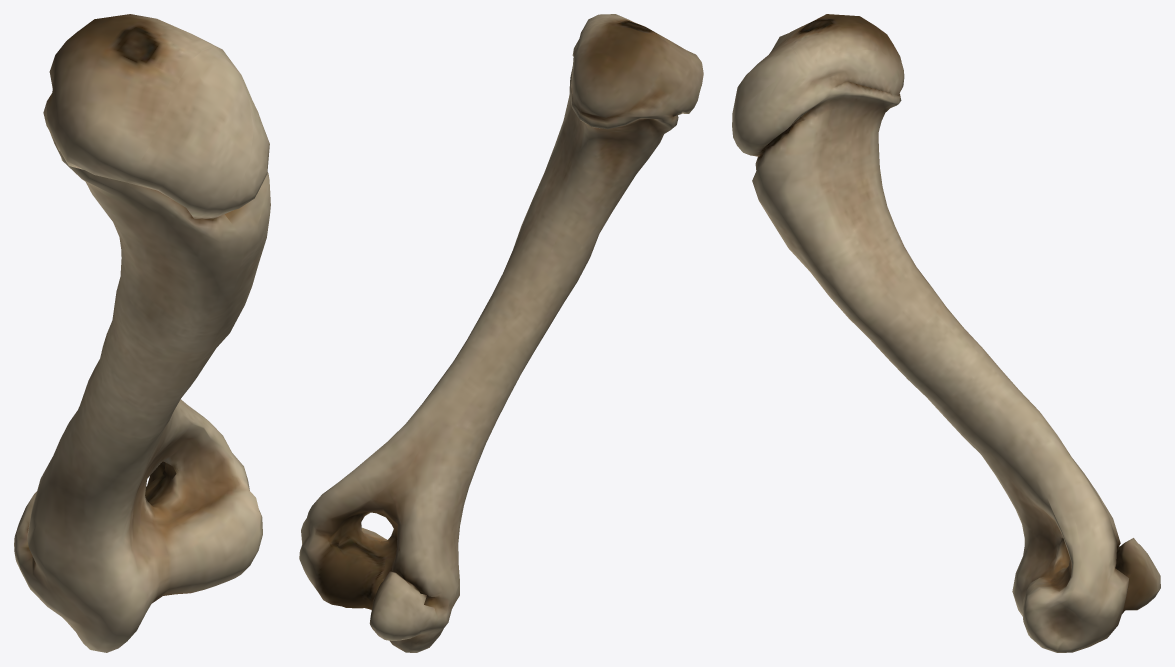
Rendered from Humerus.glb.
3 views of the same model, side by side, from view 1: azimuth 30°, elevation 25°; view 2: azimuth 150°, elevation 25°; view 3: azimuth 270°, elevation 25° (orthographic). The views are drawn at different scales.
Visible parts, largest first — view 1: Humerus_Right6:Humerus_Right4; view 2: Humerus_Right6:Humerus_Right4; view 3: Humerus_Right6:Humerus_Right4.
Boxes of the visible parts, left/top/right/bottom form: Humerus_Right6:Humerus_Right4: left=14, top=14, right=270, bottom=652; Humerus_Right6:Humerus_Right4: left=299, top=14, right=703, bottom=652; Humerus_Right6:Humerus_Right4: left=732, top=14, right=1160, bottom=652.
Size of the model in its own units: 53.72 by 111 by 74.54.
1 material, 1 textured.
